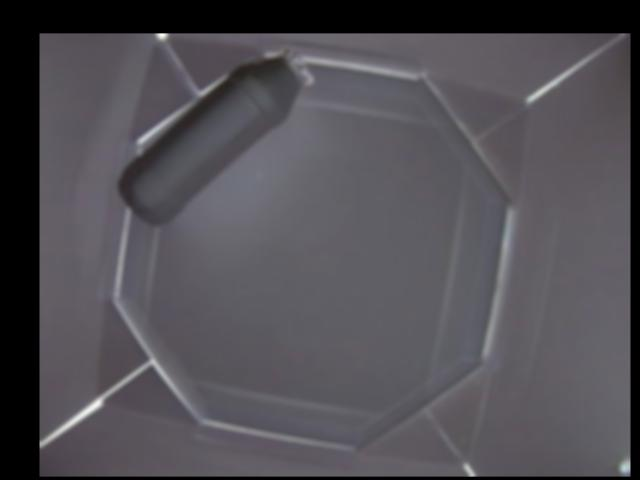Bottle: (118, 49, 316, 232)
